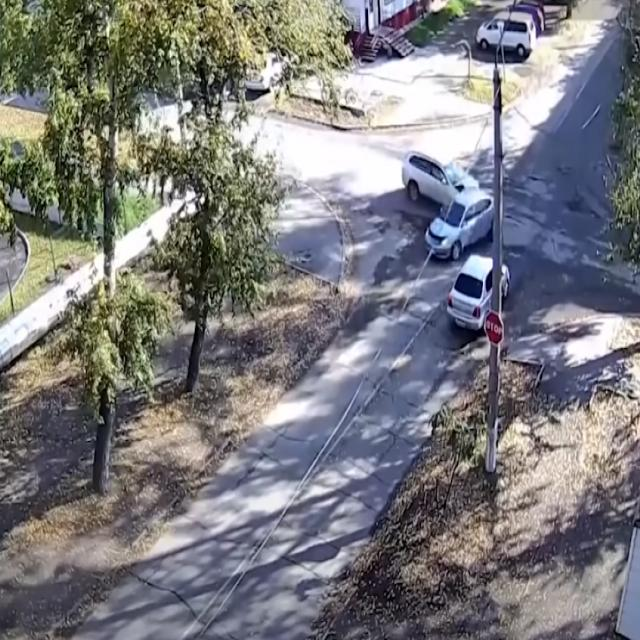accident: (389, 139, 488, 254)
